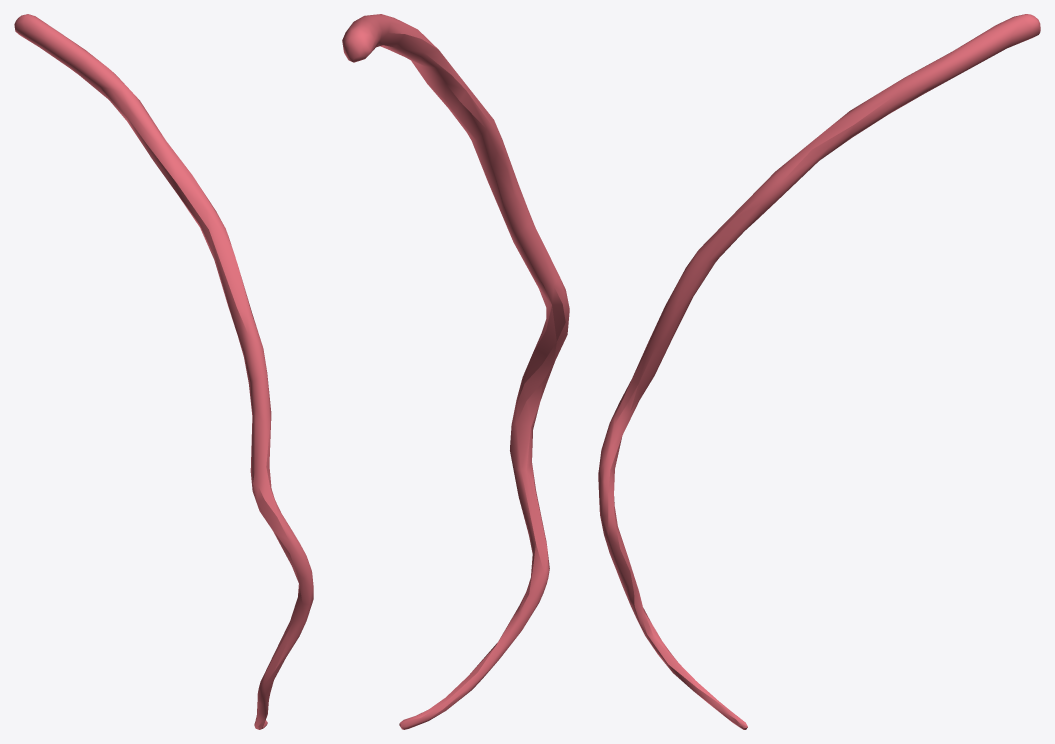
File: fma66403_fj2665.glb
3 views of the same model, side by side, from view 1: azimuth 30°, elevation 25°; view 2: azimuth 150°, elevation 25°; view 3: azimuth 270°, elevation 25° (orthographic). The views are drawn at different scales.
Visible parts, largest first — view 1: FMA66403_FJ2665; view 2: FMA66403_FJ2665; view 3: FMA66403_FJ2665.
Boxes of the visible parts, box(x1,y1,x2,y2) form: FMA66403_FJ2665: box(14, 14, 313, 729); FMA66403_FJ2665: box(342, 14, 569, 729); FMA66403_FJ2665: box(598, 14, 1040, 729).
Bounding box in the file's own units: 0.0139 × 0.0732 × 0.0442.
